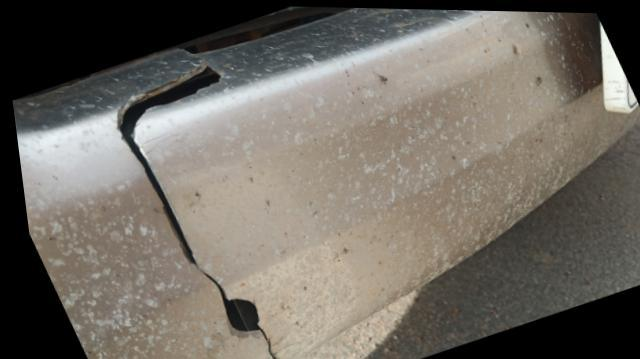crack: (114, 49, 270, 359)
